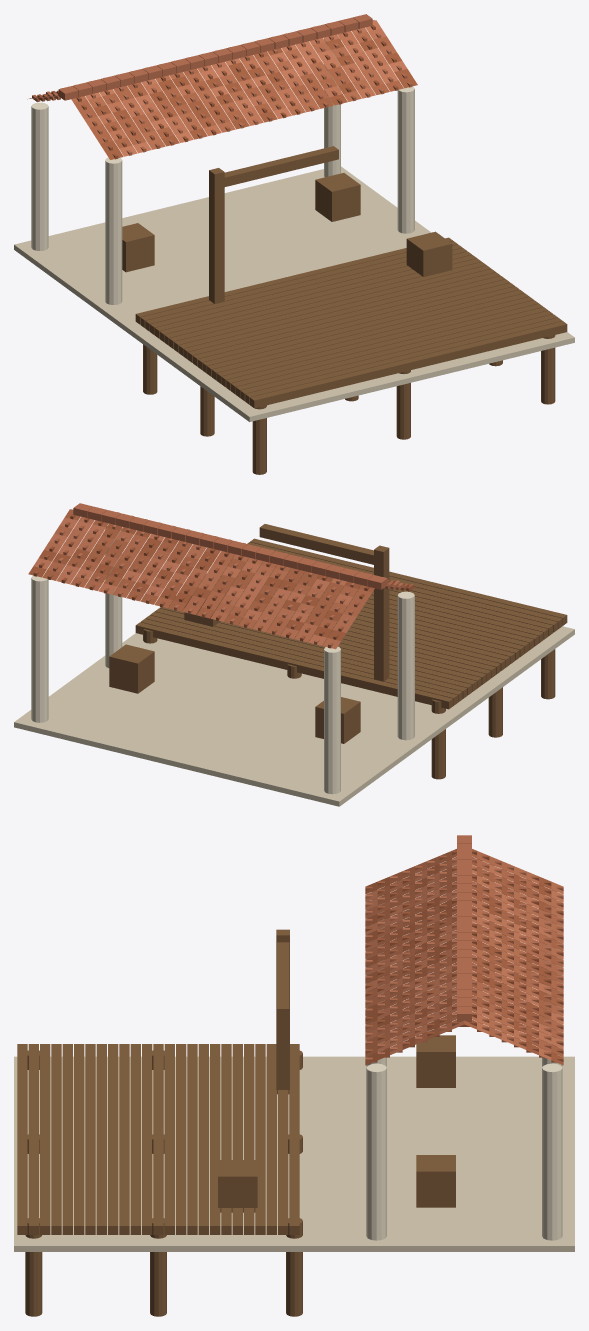
3 renders of one model, top to bottom at view 1: azimuth 30°, elevation 25°; view 2: azimuth 150°, elevation 25°; view 3: azimuth 270°, elevation 25°, orthographic. The views are drawn at different scales.
Parts seen in each view (by area): view 1: Bergfried – Steine, Säulen, Ziegel und Feuerstelle; view 2: Bergfried – Steine, Säulen, Ziegel und Feuerstelle; view 3: Bergfried – Steine, Säulen, Ziegel und Feuerstelle.
Boxes of the visible parts, x1,y1,x2,y2 form: Bergfried – Steine, Säulen, Ziegel und Feuerstelle: (14, 14, 574, 474); Bergfried – Steine, Säulen, Ziegel und Feuerstelle: (14, 503, 574, 806); Bergfried – Steine, Säulen, Ziegel und Feuerstelle: (14, 835, 574, 1316).
Size of the model in its own units: 790 by 585 by 990.
